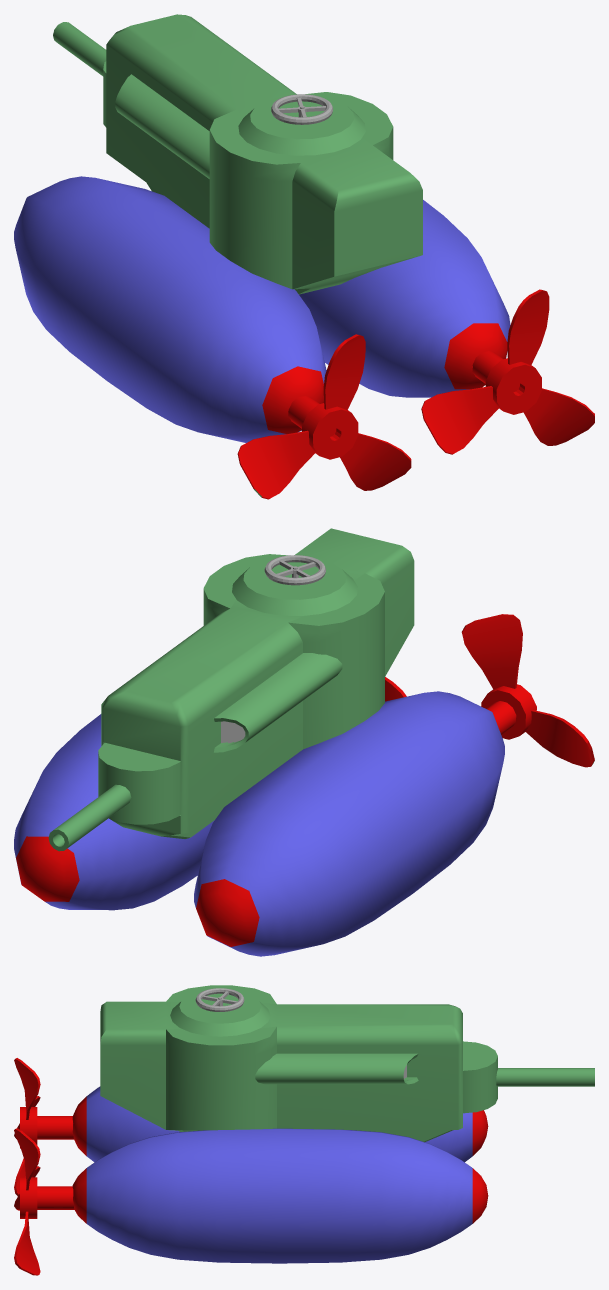
The model's file is small_ship.fbx.
3 renders of one model, top to bottom at view 1: azimuth 30°, elevation 25°; view 2: azimuth 150°, elevation 25°; view 3: azimuth 270°, elevation 25°, orthographic. The views are drawn at different scales.
Parts seen in each view (by area): view 1: balloons, body, rotor (×2), vents, Turret, wheel; view 2: balloons, body, Turret, rotor, vents, wheel, propeller_left; view 3: balloons, body, vents, Turret, rotor (×2), propeller_right, propeller_left, wheel.
Boxes of the visible parts, left/top/right/bottom form: balloons: left=14, top=176, right=510, bottom=442; body: left=106, top=14, right=422, bottom=294; rotor (×2): left=237, top=289, right=594, bottom=499; vents: left=115, top=74, right=209, bottom=178; Turret: left=53, top=22, right=106, bottom=127; wheel: left=271, top=94, right=332, bottom=124; balloons: left=14, top=691, right=504, bottom=956; body: left=101, top=528, right=414, bottom=838; Turret: left=48, top=743, right=180, bottom=851; rotor: left=461, top=614, right=594, bottom=767; vents: left=214, top=653, right=342, bottom=752; wheel: left=264, top=555, right=325, bottom=585; propeller_left: left=486, top=701, right=516, bottom=734; balloons: left=72, top=1086, right=488, bottom=1263; body: left=100, top=985, right=462, bottom=1142; vents: left=255, top=1053, right=418, bottom=1084; Turret: left=463, top=1041, right=594, bottom=1113; rotor (×2): left=14, top=1058, right=40, bottom=1275; propeller_right: left=37, top=1186, right=74, bottom=1209; propeller_left: left=37, top=1116, right=73, bottom=1139; wheel: left=195, top=988, right=244, bottom=1011.
Bounding box in the file's own units: 460 × 368 × 849.
